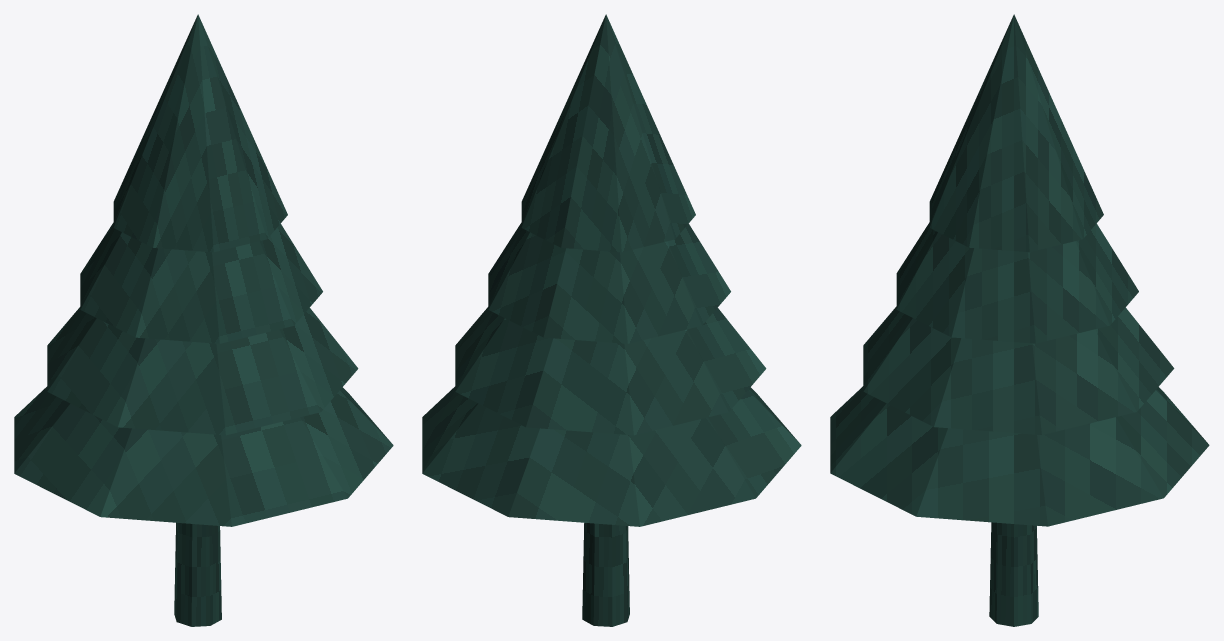
The model's file is pine_37.glb.
3 renders of one model, left to right at view 1: azimuth 30°, elevation 25°; view 2: azimuth 150°, elevation 25°; view 3: azimuth 270°, elevation 25°, orthographic.
Visible parts, largest first — view 1: Needles, Needles.001, Needles.003, Needles.002, Trunk; view 2: Needles, Needles.001, Needles.003, Needles.002, Trunk; view 3: Needles, Needles.001, Needles.003, Needles.002, Trunk.
Part boxes in pixels (x1,y1,x2,y2): Needles: [14, 386, 393, 526]; Needles.001: [47, 307, 358, 435]; Needles.003: [113, 14, 287, 252]; Needles.002: [80, 222, 322, 343]; Trunk: [174, 522, 221, 626]; Needles: [422, 386, 801, 526]; Needles.001: [455, 307, 766, 435]; Needles.003: [521, 14, 695, 252]; Needles.002: [488, 222, 730, 343]; Trunk: [582, 522, 629, 626]; Needles: [830, 386, 1209, 526]; Needles.001: [863, 306, 1174, 434]; Needles.003: [929, 14, 1103, 252]; Needles.002: [896, 222, 1138, 343]; Trunk: [989, 522, 1038, 626].
Bounding box in the file's own units: 3.12 × 5.38 × 3.07.
1 material, 1 textured.
